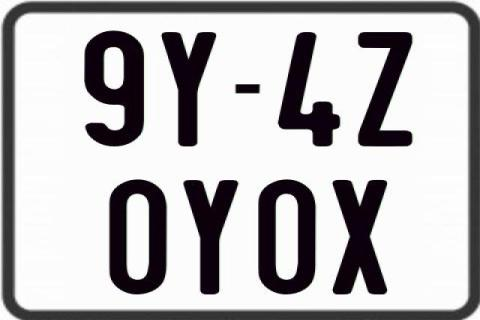0: (82, 30, 147, 150), (275, 32, 339, 150), (106, 178, 165, 296), (257, 178, 316, 294)
X: (332, 178, 388, 294)
Y: (182, 180, 237, 297), (162, 30, 216, 148)
Z: (356, 29, 414, 145)
